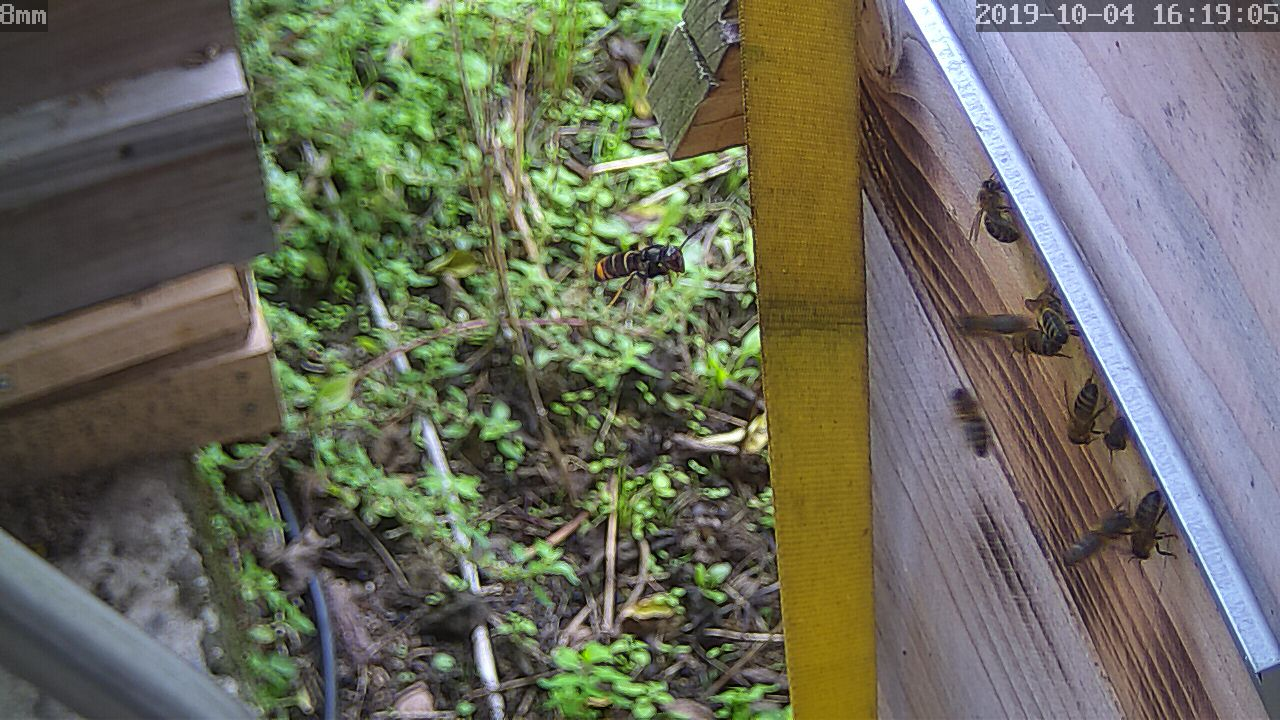bee: (948, 289, 1078, 361), (1058, 371, 1137, 459), (946, 386, 1003, 460), (1062, 508, 1140, 562), (965, 177, 1021, 250), (1124, 493, 1181, 564)
hornet: (585, 233, 696, 302)
